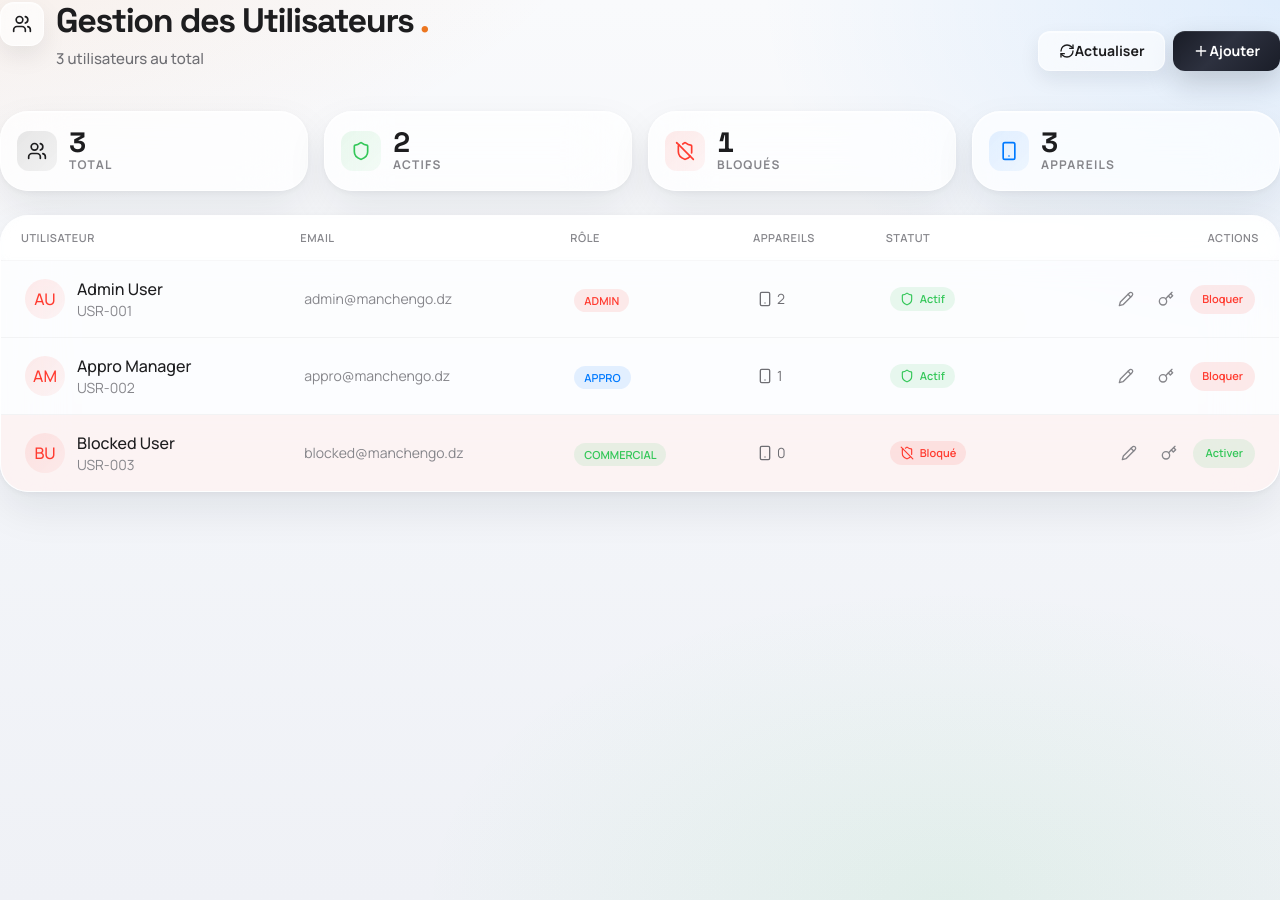
Test: UsersManagementPage › opens edit modal with pre-filled data
Check: the text "admin@manchengo.dz" is shown, box x1=280 y1=261 x2=550 y2=338
Note: Click the first edit button (pencil icon)
Click the button titled "Modifier" in the row of "USR-001". click: {"x": 1126, "y": 299}
box: x1=1110 y1=283 x2=1142 y2=315
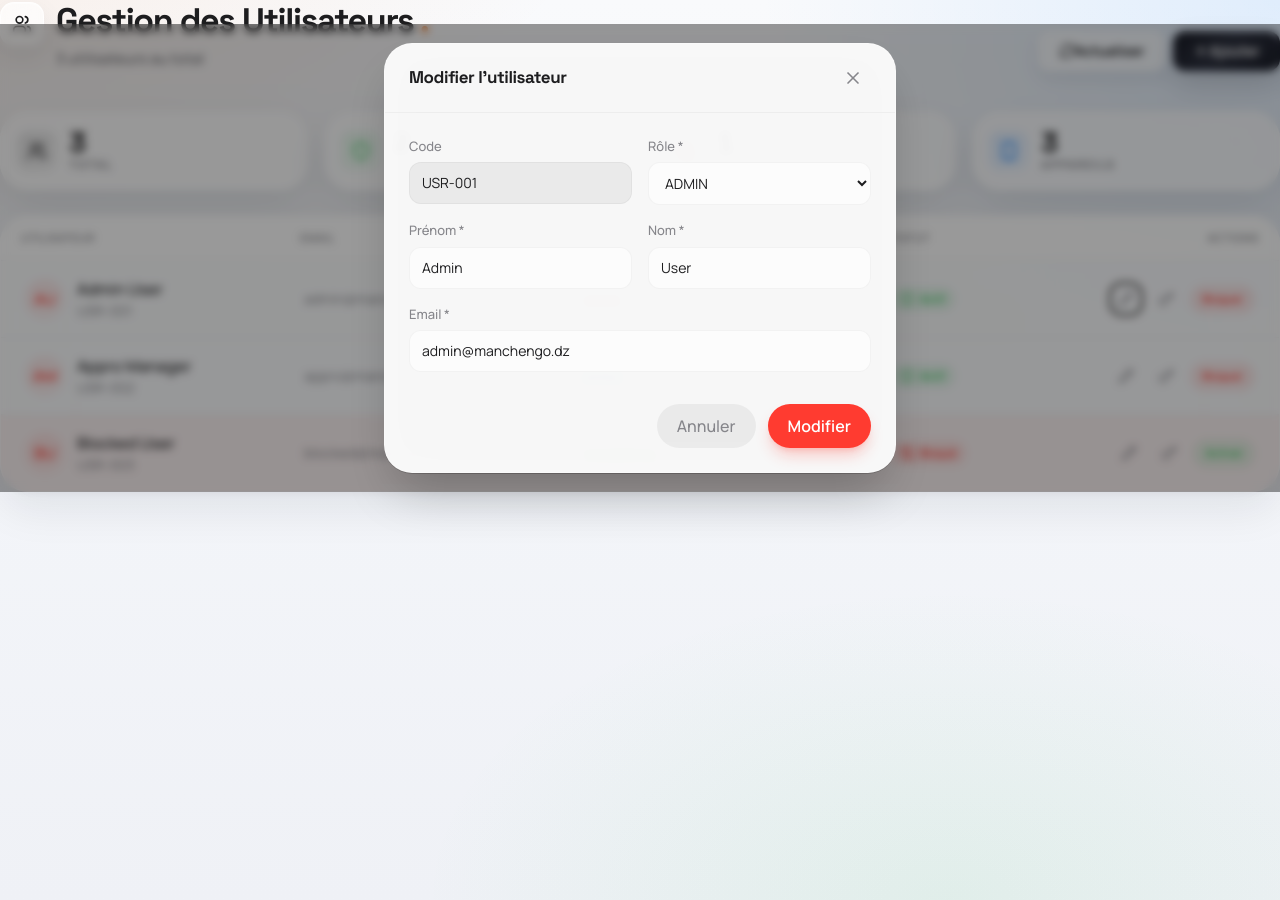
Check: the heading "Modifier l'utilisateur" is shown, box x1=409 y1=65 x2=567 y2=91
